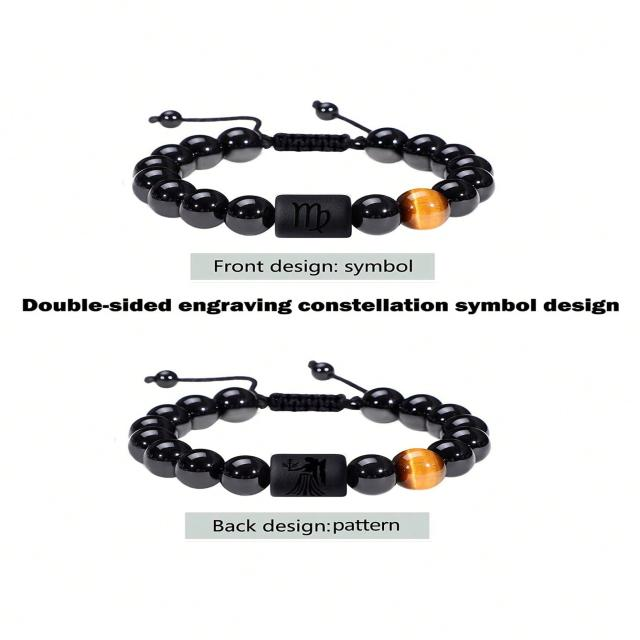bracelet: (81, 70, 640, 253), (50, 332, 606, 509)
